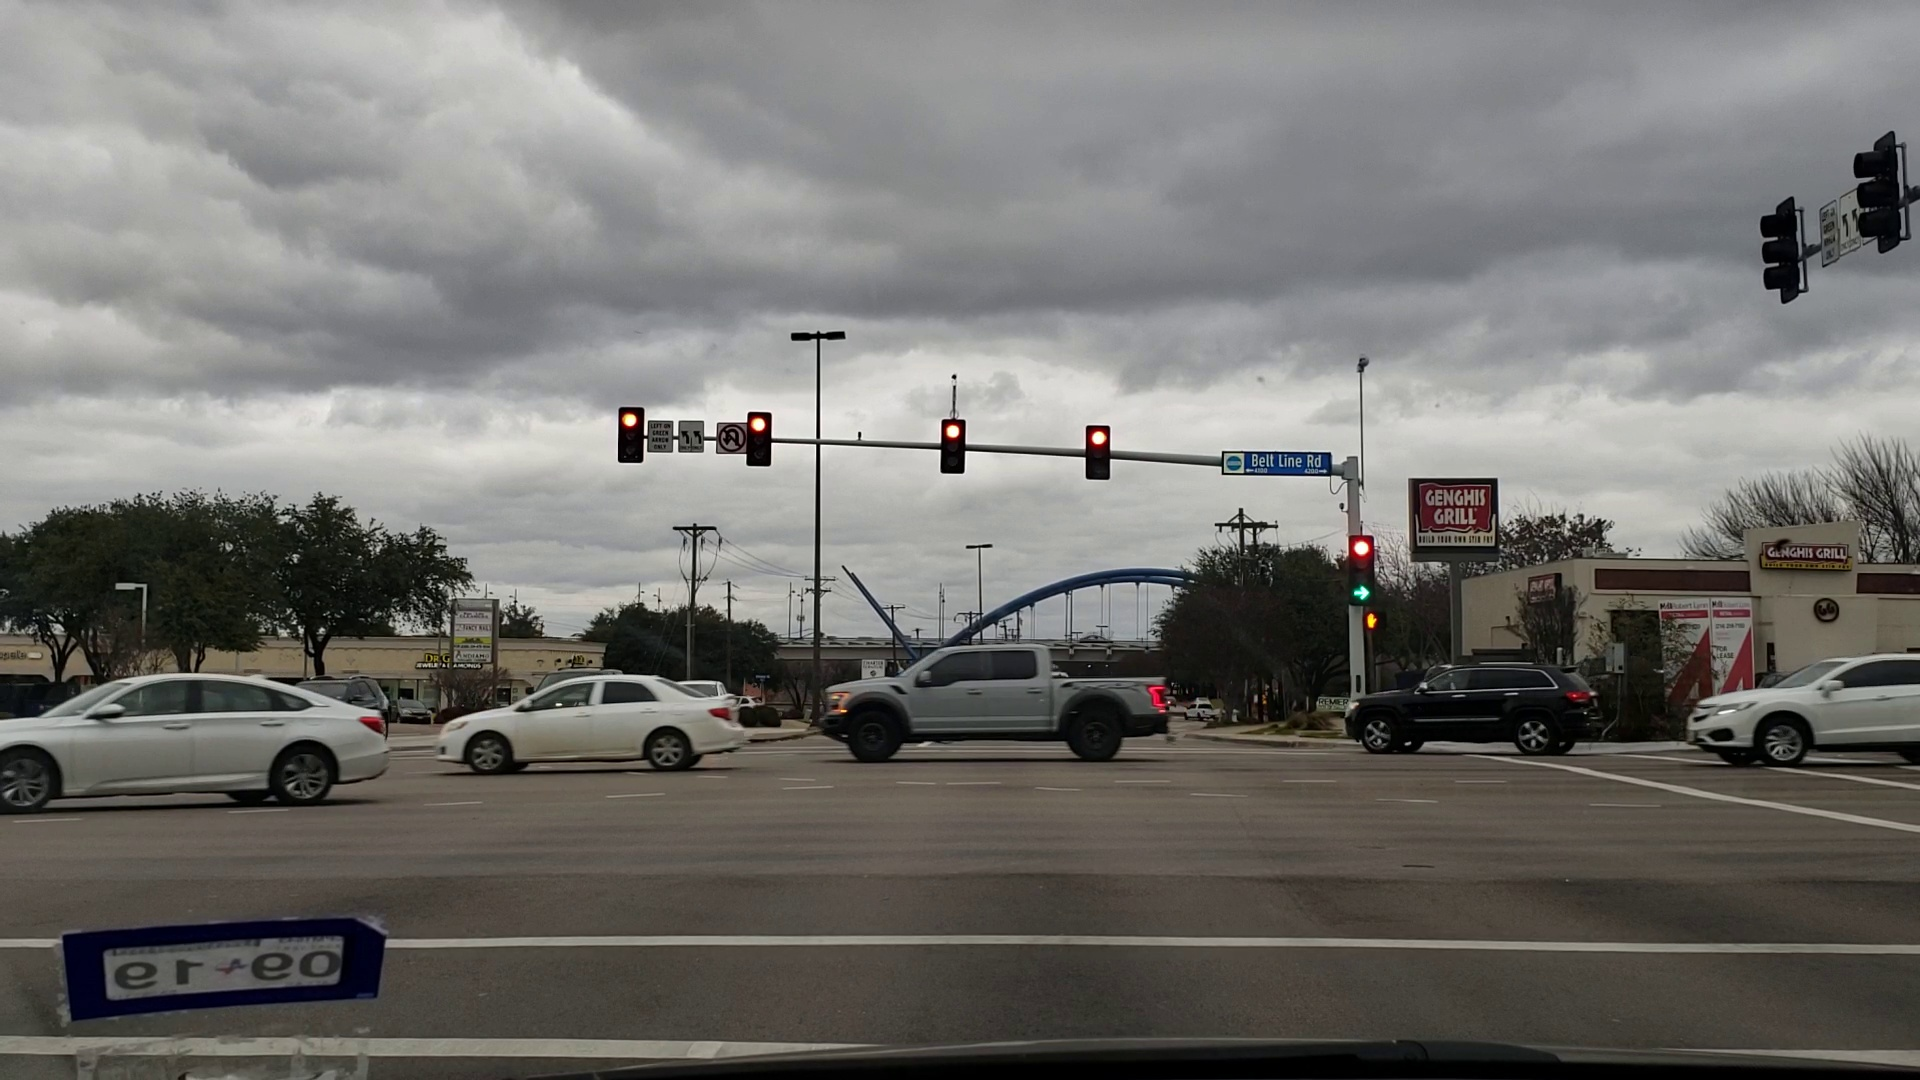car: (1, 667, 394, 807), (439, 674, 756, 781), (1342, 654, 1592, 771), (1698, 638, 1920, 764), (305, 662, 409, 728), (396, 690, 433, 724), (1182, 698, 1211, 721)
traffic light: (1758, 207, 1797, 291), (1857, 146, 1894, 233), (616, 401, 644, 459), (1350, 535, 1373, 601), (745, 407, 771, 463), (942, 415, 967, 469), (1087, 427, 1110, 473)
truck: (825, 638, 1185, 767)
